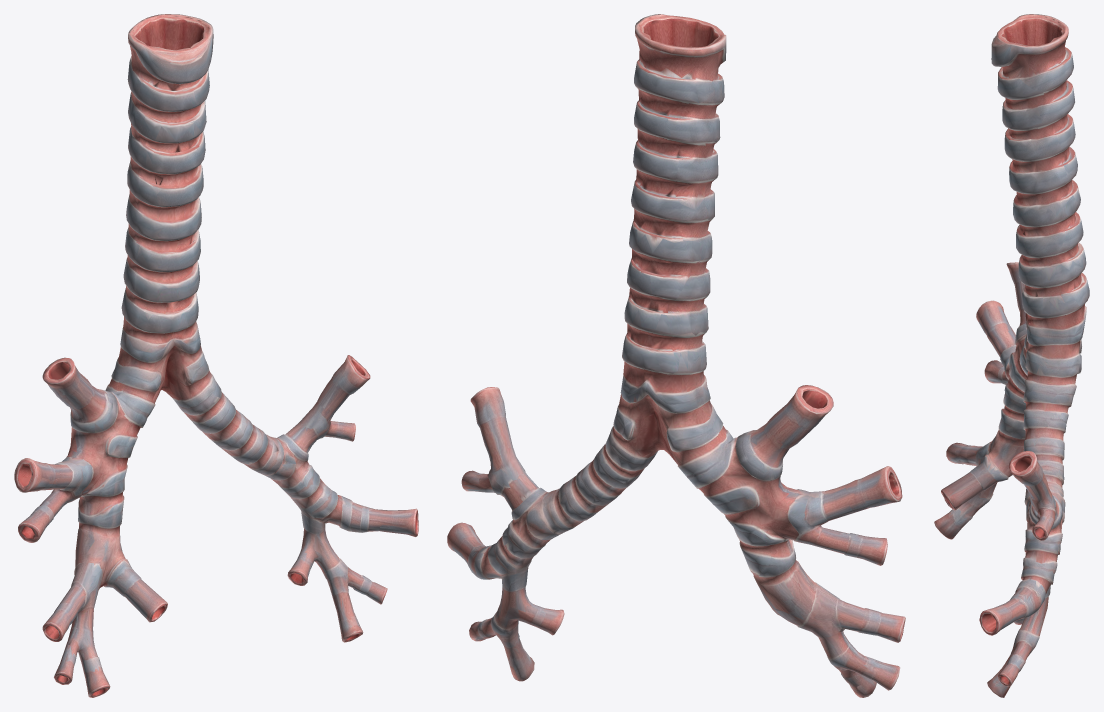
Rendered from lung-sim-pro-airways.glb.
3 renders of one model, left to right at view 1: azimuth 30°, elevation 25°; view 2: azimuth 150°, elevation 25°; view 3: azimuth 270°, elevation 25°, orthographic. The views are drawn at different scales.
Visible parts, largest first — view 1: Airways; view 2: Airways; view 3: Airways.
Part boxes in pixels (x1=…): Airways: x1=14, y1=14, x2=418, y2=697; Airways: x1=447, y1=14, x2=905, y2=697; Airways: x1=934, y1=14, x2=1089, y2=697.
Bounding box in the file's own units: 1.26 × 1.9 × 0.451.
Materials: 1 (1 with a texture image).
